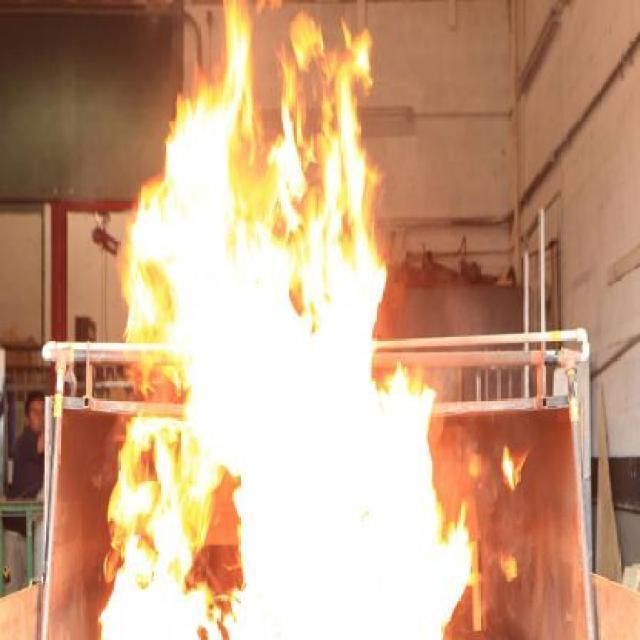Fire: (99, 0, 474, 640)
